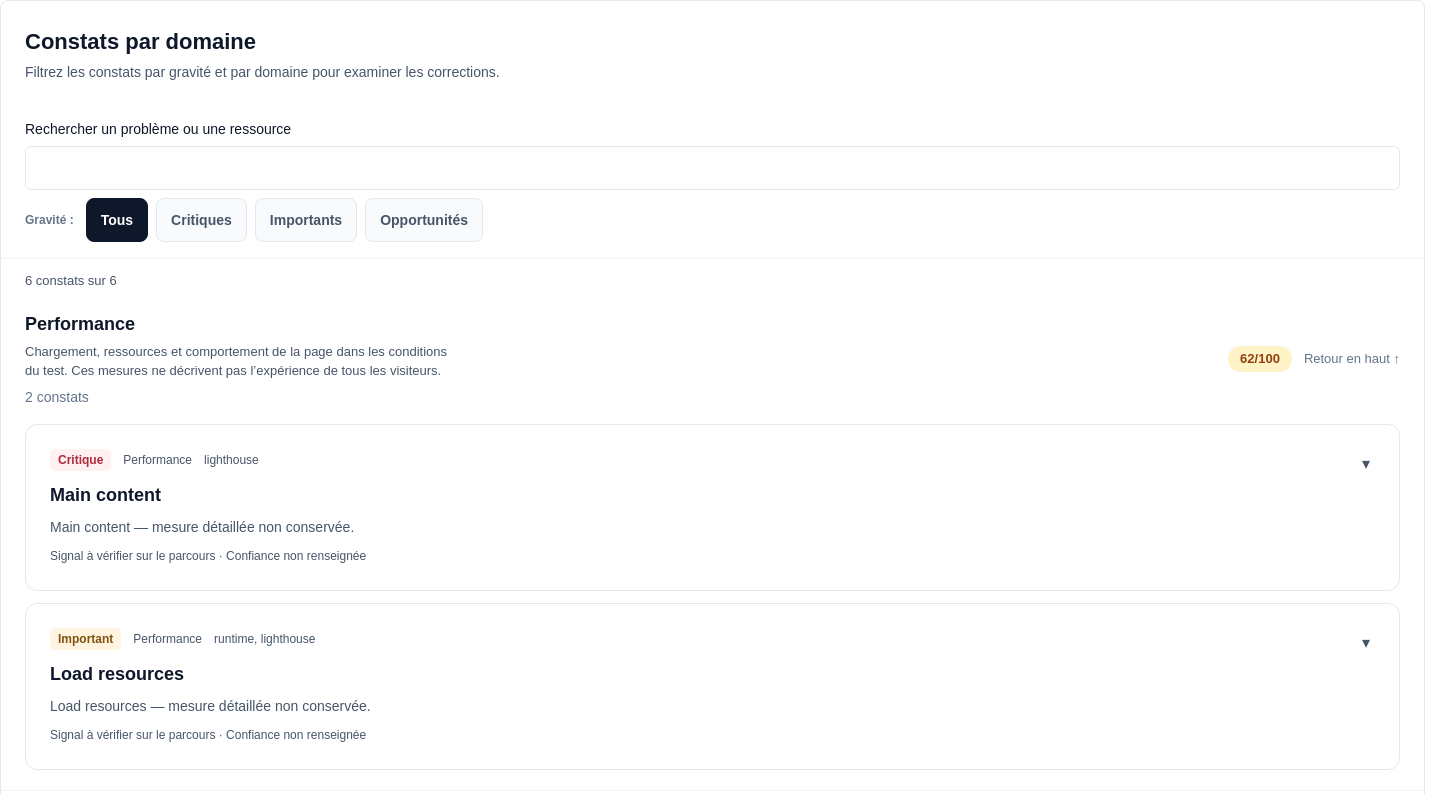
Test case: filters canonical unique findings without changing scores or priorities
Check: the message reads "6 constats sur 6", box [25,273,117,288]
Click the button "Critiques". click: coordinates (201, 220)
box: [156,198,247,242]
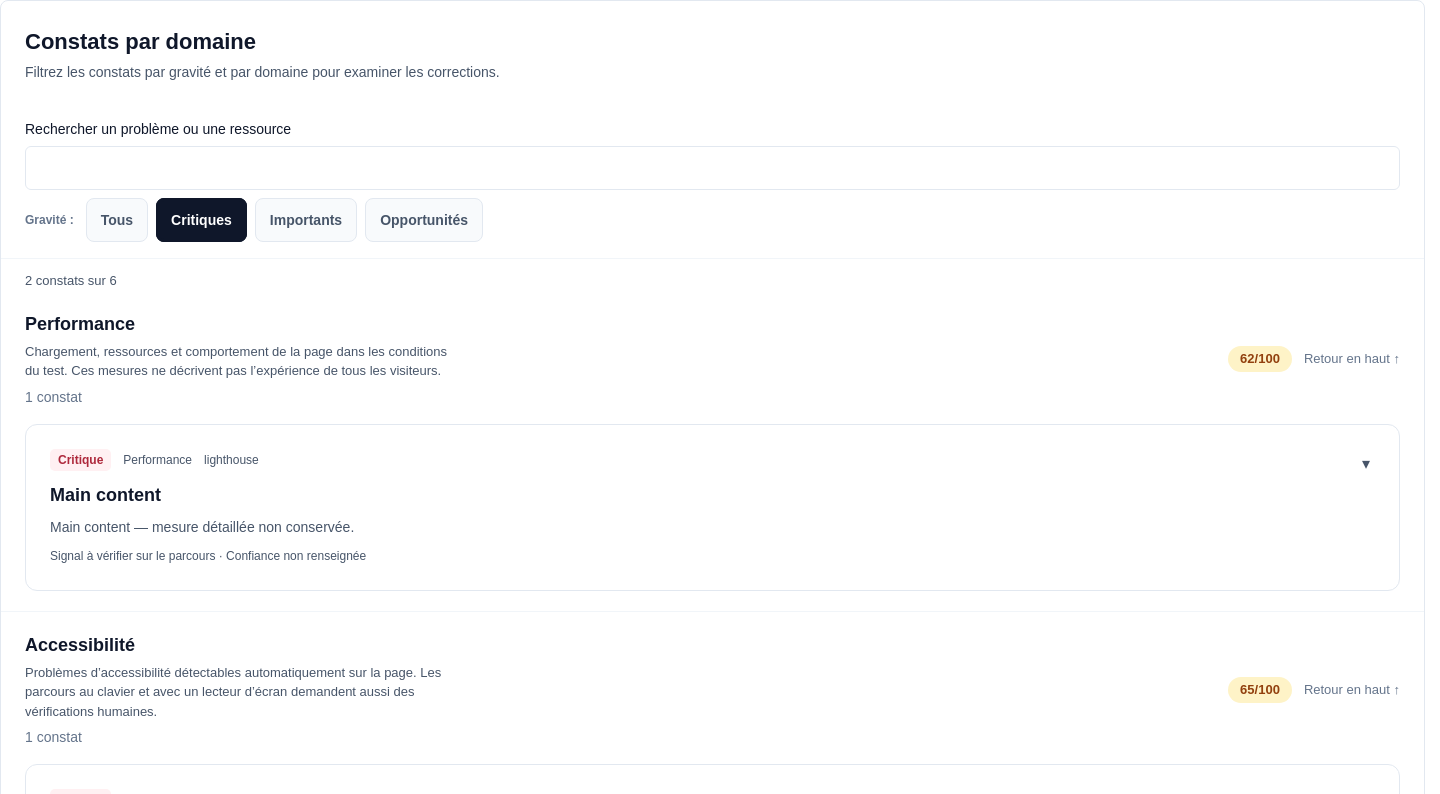
Check: the message reads "2 constats sur 6", box [25,273,117,288]
